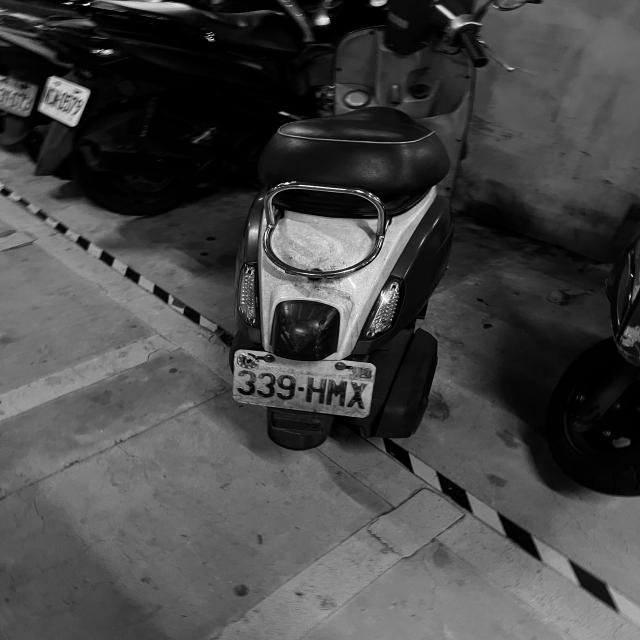-: (298, 385, 304, 392)
3: (257, 372, 276, 398)
9: (276, 373, 297, 401)
H: (306, 377, 326, 403)
M: (327, 379, 347, 407)
X: (348, 380, 368, 410)
plate: (233, 350, 375, 418)
